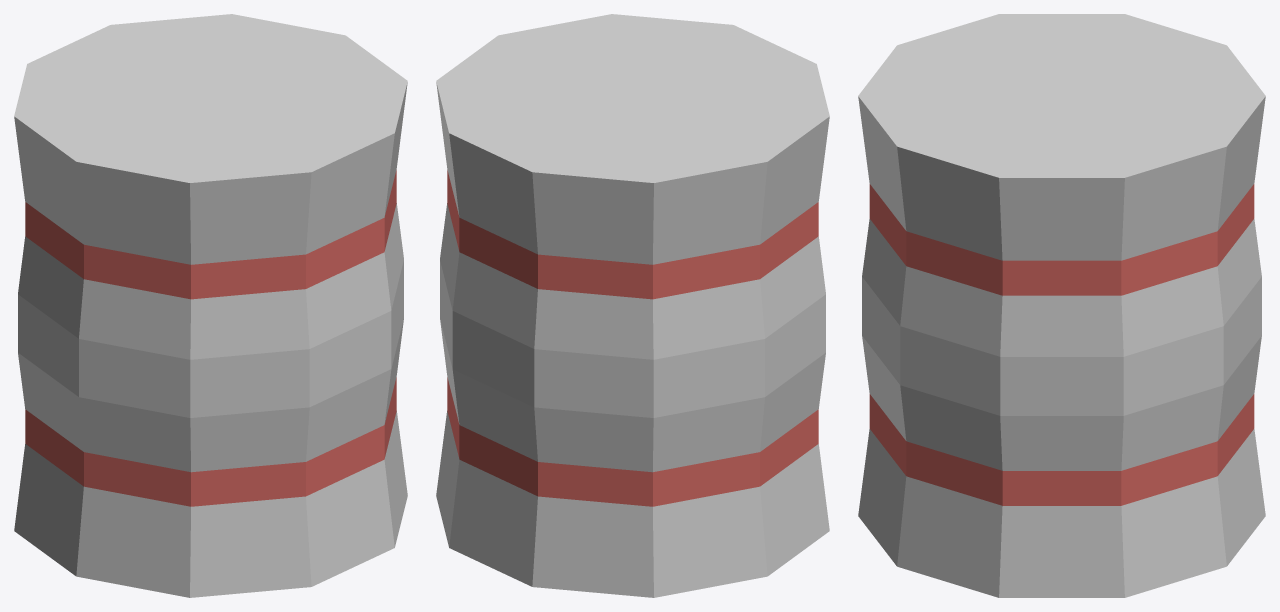
File: bandages.glb
The picture shows the model from 3 angles, left to right: view 1: azimuth 30°, elevation 25°; view 2: azimuth 150°, elevation 25°; view 3: azimuth 270°, elevation 25°; orthographic projection.
Visible parts, largest first — view 1: Bandages; view 2: Bandages; view 3: Bandages.
Boxes of the visible parts, <box> form: Bandages: <box>14,14,407,597</box>; Bandages: <box>436,14,829,597</box>; Bandages: <box>858,14,1265,597</box>.
Bounding box in the file's own units: 0.3023 × 0.3615 × 0.3179.
